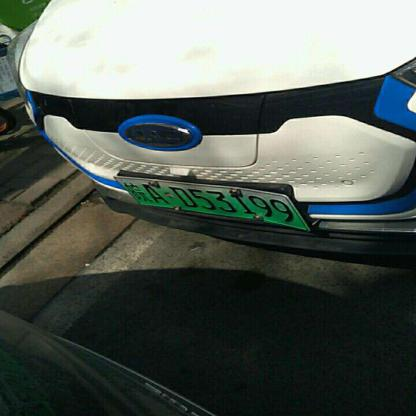lp: (115, 177, 308, 229)
